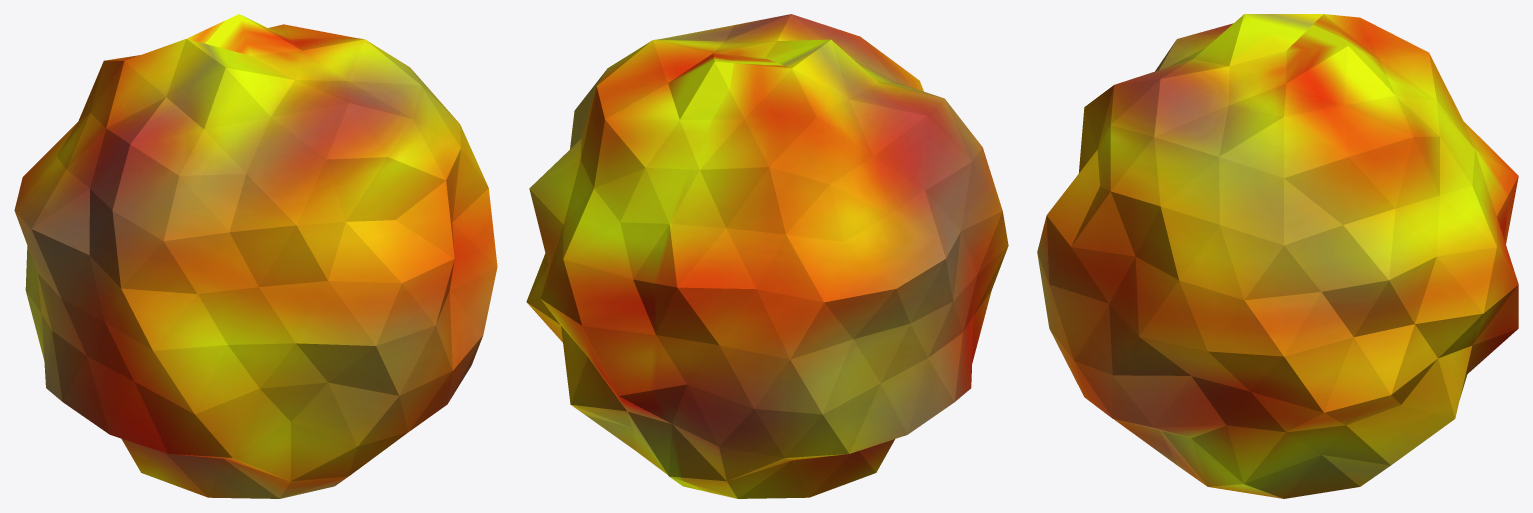
The model's file is explosion.dae.
3 renders of one model, left to right at view 1: azimuth 30°, elevation 25°; view 2: azimuth 150°, elevation 25°; view 3: azimuth 270°, elevation 25°, orthographic.
Parts seen in each view (by area): view 1: Sphere; view 2: Sphere; view 3: Sphere.
Part boxes in pixels (x1=…): Sphere: x1=14, y1=14, x2=497, y2=498; Sphere: x1=526, y1=14, x2=1008, y2=498; Sphere: x1=1037, y1=14, x2=1518, y2=498.
Size of the model in its own units: 1.95 by 1.95 by 1.96.
